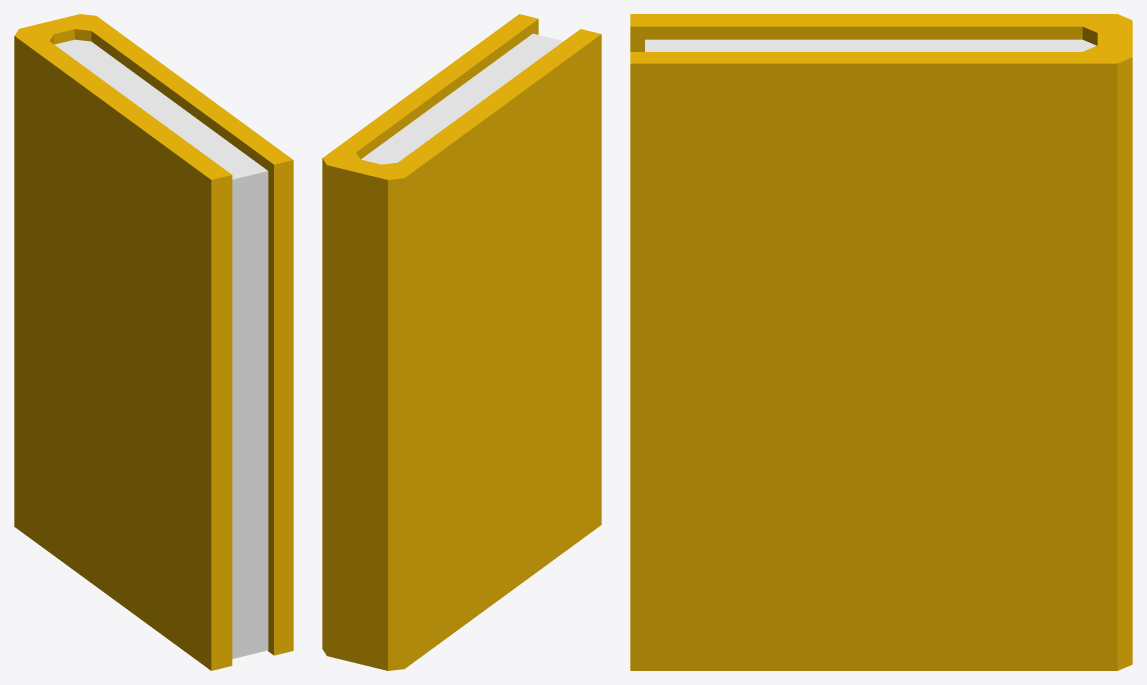
Rendered from Libro04.fbx.
The picture shows the model from 3 angles, left to right: view 1: azimuth 30°, elevation 25°; view 2: azimuth 150°, elevation 25°; view 3: azimuth 270°, elevation 25°; orthographic projection. The views are drawn at different scales.
Parts seen in each view (by area): view 1: Libro04; view 2: Libro04; view 3: Libro04.
Part boxes in pixels (x1,y1,x2,y2): Libro04: [14, 14, 293, 670]; Libro04: [322, 14, 601, 670]; Libro04: [630, 14, 1132, 670].
Size of the model in its own units: 3.28 by 18.76 by 14.05.
